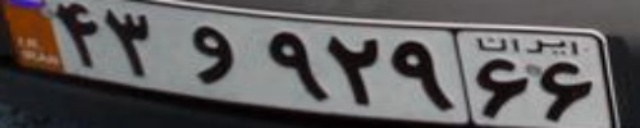2: (326, 35, 381, 107)
3: (100, 10, 157, 77)
4: (54, 2, 100, 67)
6: (471, 57, 529, 119), (535, 60, 593, 122)
9: (386, 41, 453, 112), (265, 30, 327, 101)
vav: (187, 26, 236, 84)
